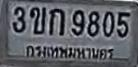0: (102, 10, 114, 36)
3: (12, 6, 25, 32)
5: (116, 11, 129, 37)
8: (87, 10, 99, 36)
9: (71, 9, 84, 35)
A01: (48, 7, 64, 35)
A02: (29, 6, 45, 34)
BKK: (23, 43, 115, 63)
